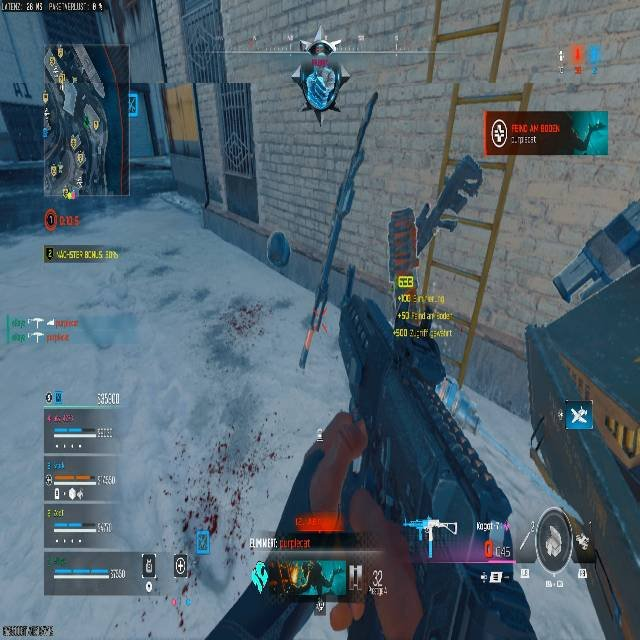head: (389, 343, 447, 404), (307, 34, 331, 57)
player: (291, 39, 351, 114)
